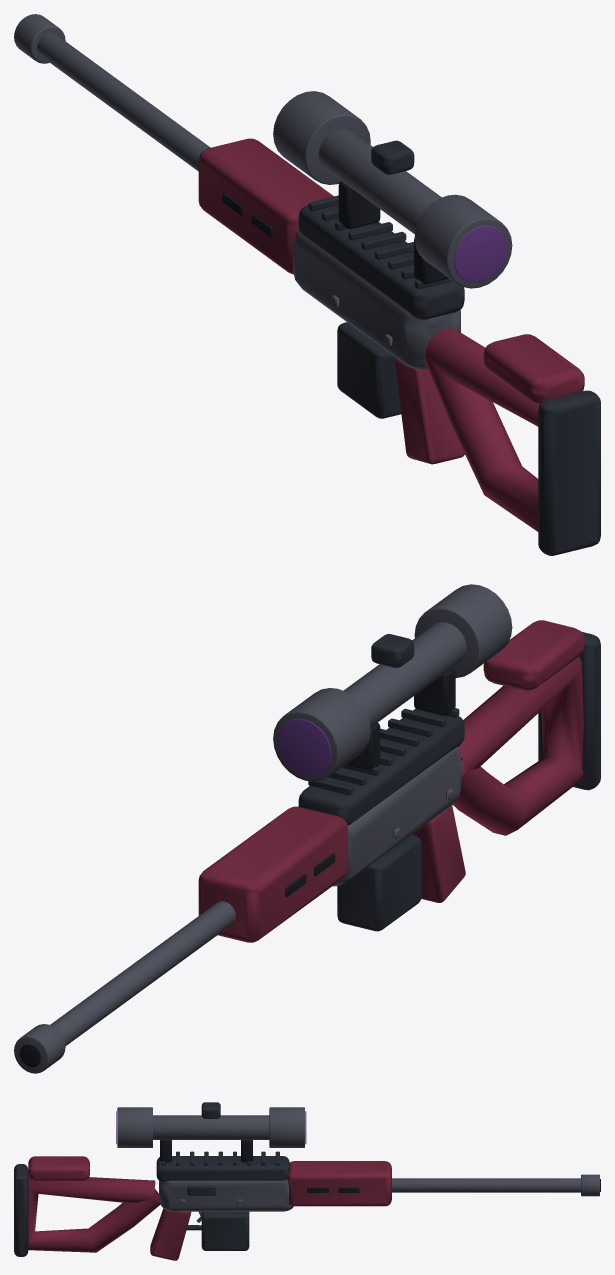
The model's file is sniper.glb.
The picture shows the model from 3 angles, top to bottom: view 1: azimuth 30°, elevation 25°; view 2: azimuth 150°, elevation 25°; view 3: azimuth 270°, elevation 25°; orthographic projection. The views are drawn at different scales.
Visible parts, largest first — view 1: sniper-frame-burgundy furniture, sniper-frame-slate, sniper-frame-charcoal, sniper-magazine-charcoal, sniper-frame-dark recess, sniper-frame-scope glass; view 2: sniper-frame-burgundy furniture, sniper-frame-slate, sniper-frame-charcoal, sniper-magazine-charcoal, sniper-frame-dark recess, sniper-frame-scope glass; view 3: sniper-frame-burgundy furniture, sniper-frame-slate, sniper-frame-charcoal, sniper-magazine-charcoal, sniper-frame-dark recess, sniper-slide-charcoal.
Part boxes in pixels (x1=…): sniper-frame-burgundy furniture: x1=198, y1=138, x2=584, y2=531; sniper-frame-slate: x1=14, y1=14, x2=512, y2=369; sniper-frame-charcoal: x1=298, y1=140, x2=600, y2=555; sniper-magazine-charcoal: x1=337, y1=322, x2=401, y2=418; sniper-frame-dark recess: x1=222, y1=181, x2=448, y2=283; sniper-frame-scope glass: x1=453, y1=225, x2=507, y2=282; sniper-frame-burgundy furniture: x1=198, y1=620, x2=584, y2=942; sniper-frame-slate: x1=14, y1=584, x2=512, y2=1073; sniper-frame-charcoal: x1=298, y1=631, x2=600, y2=825; sniper-magazine-charcoal: x1=337, y1=835, x2=421, y2=931; sniper-frame-dark recess: x1=19, y1=667, x2=455, y2=1066; sniper-frame-scope glass: x1=277, y1=718, x2=331, y2=776; sniper-frame-burgundy furniture: x1=28, y1=1156, x2=391, y2=1260; sniper-frame-slate: x1=117, y1=1107, x2=599, y2=1222; sniper-frame-charcoal: x1=14, y1=1102, x2=289, y2=1256; sniper-magazine-charcoal: x1=201, y1=1211, x2=249, y2=1250; sniper-frame-dark recess: x1=160, y1=1139, x2=600, y2=1192; sniper-slide-charcoal: x1=187, y1=1185, x2=215, y2=1195.
Bounding box in the file's own units: 0.0885 × 0.3532 × 1.23.
